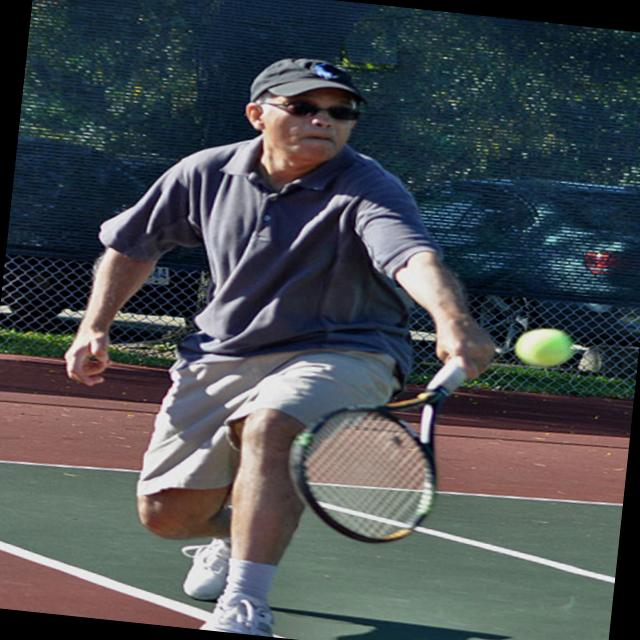Tennis Ball: (518, 328, 575, 369)
